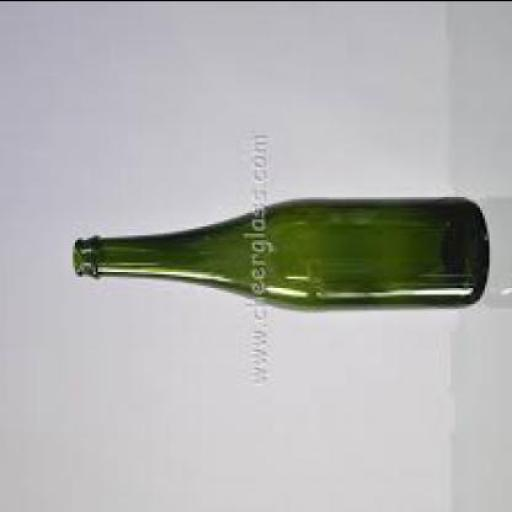glass: (71, 198, 487, 314)
